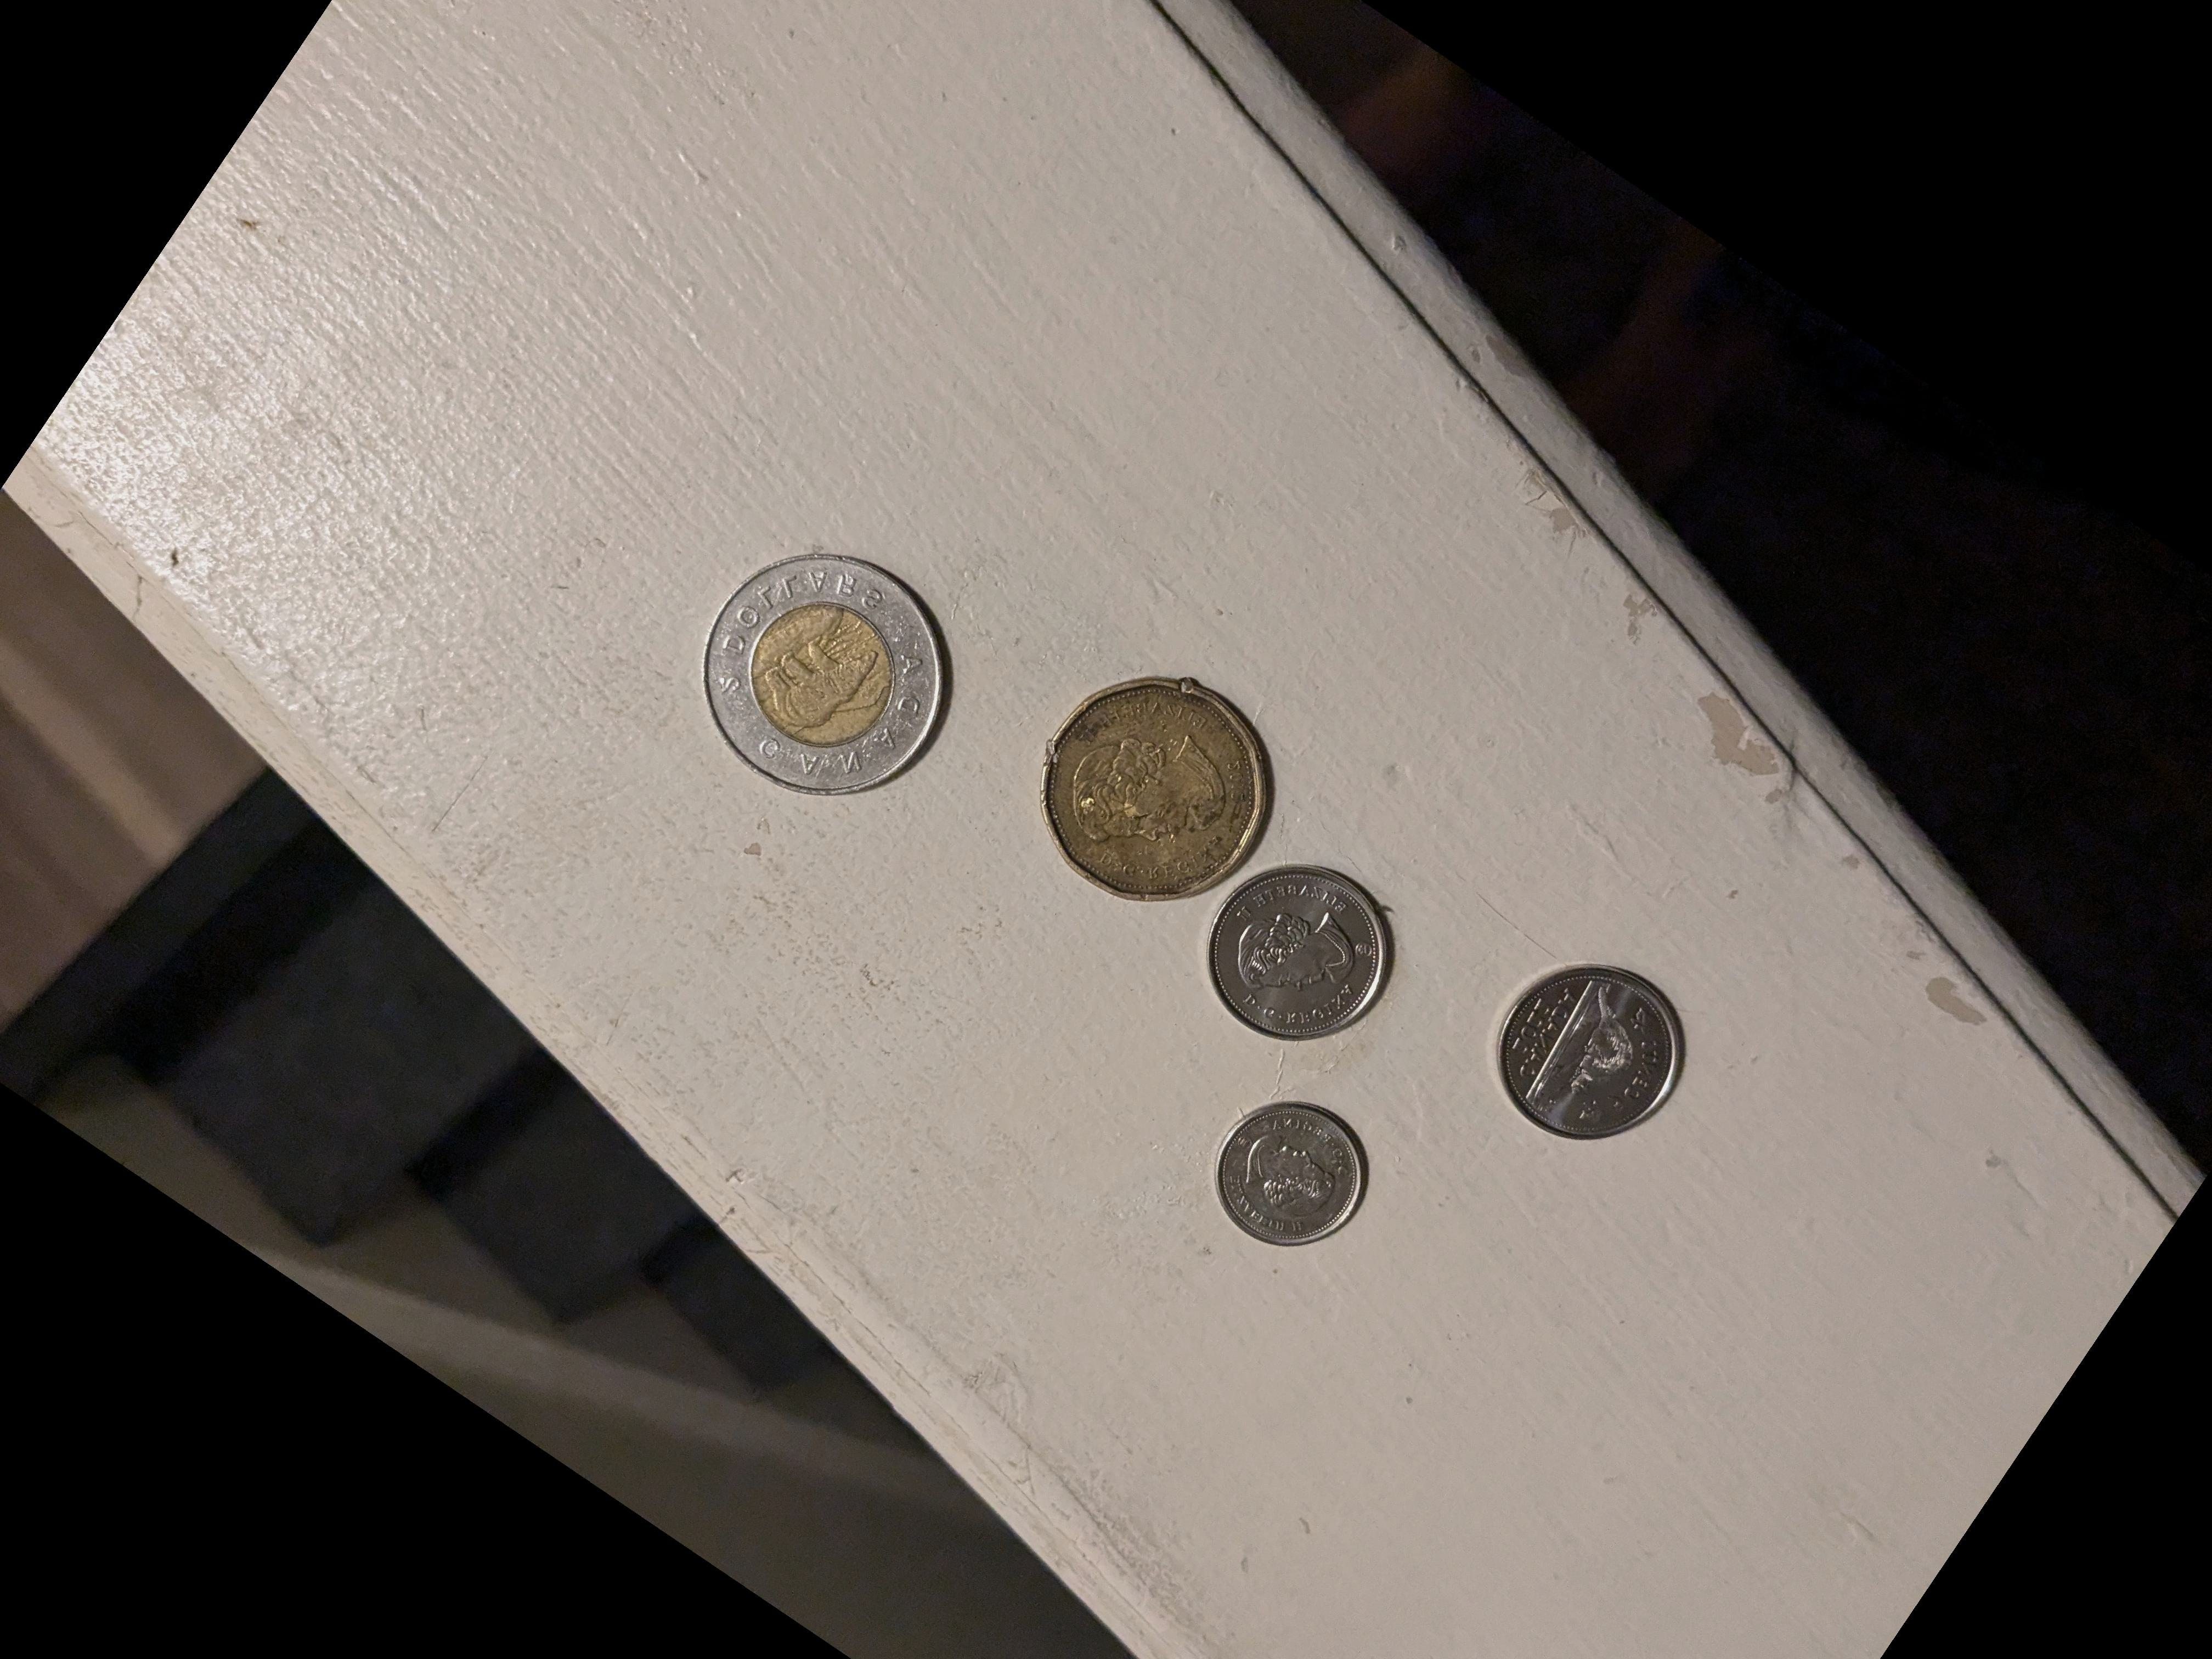dime: (1221, 1101, 1376, 1253)
loonie: (1052, 676, 1263, 892)
nickel: (1214, 856, 1395, 1037), (1501, 976, 1686, 1140)
toonie: (714, 549, 953, 789)
